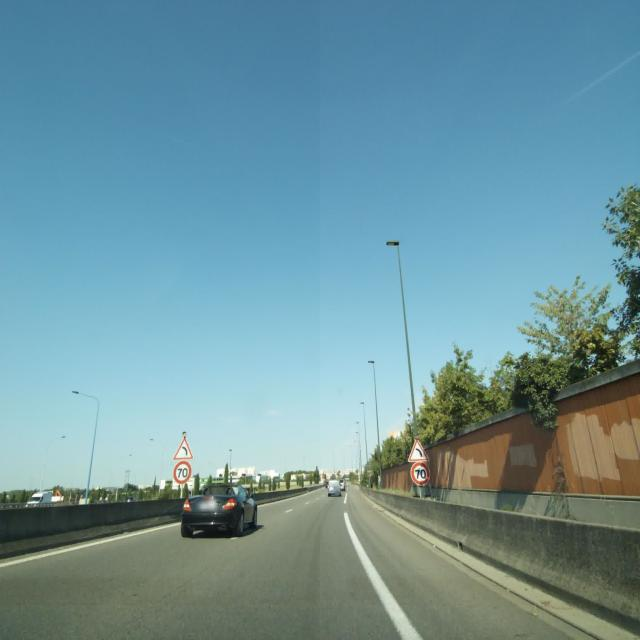car: (180, 481, 258, 537), (327, 480, 341, 496)
